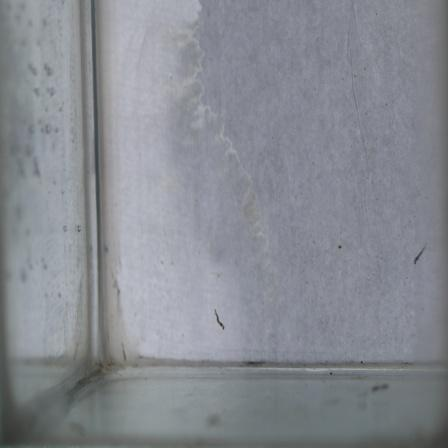Jentik-Nyamuk: (409, 242, 431, 269), (212, 304, 230, 335)
